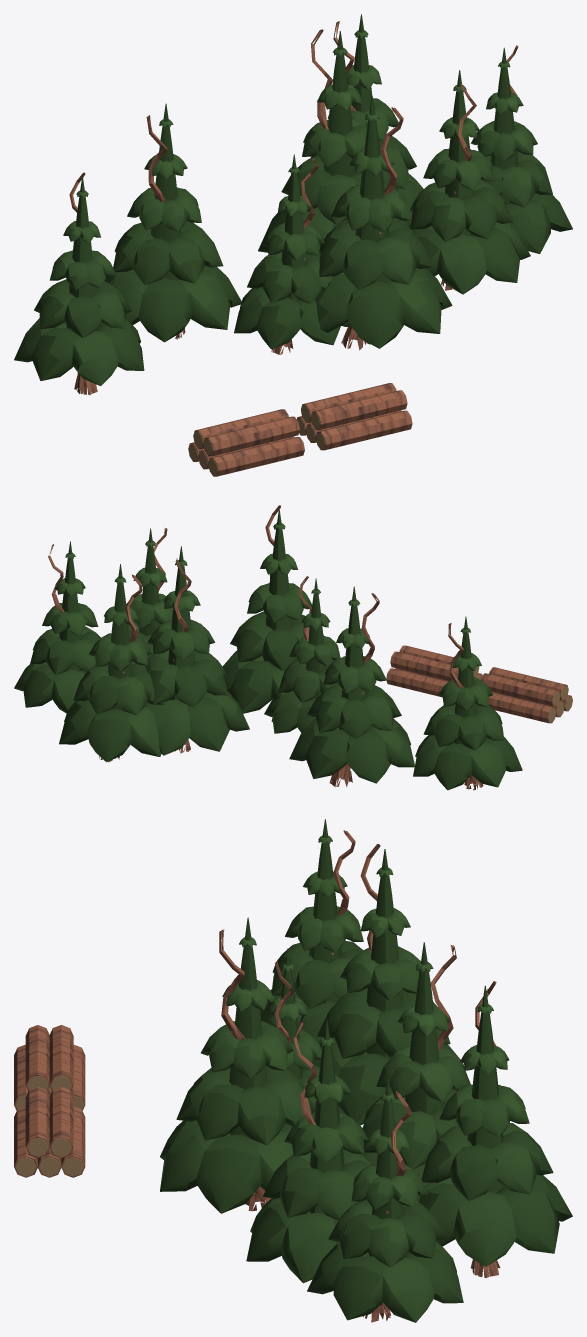
Rendered from EnvironmentForest.glb.
The picture shows the model from 3 angles, top to bottom: view 1: azimuth 30°, elevation 25°; view 2: azimuth 150°, elevation 25°; view 3: azimuth 270°, elevation 25°; orthographic projection. The views are drawn at different scales.
Visible parts, largest first — view 1: Forest retained Valoria pine 07, Forest retained Valoria pine 01, Forest retained Valoria pine 04, Forest retained Valoria pine 00, Forest cut timber and sawbuck, Forest retained Valoria pine 02, Forest retained Valoria pine 03, Forest retained Valoria pine 05, Forest retained Valoria pine 06; view 2: Forest retained Valoria pine 01, Forest retained Valoria pine 03, Forest retained Valoria pine 06, Forest retained Valoria pine 00, Forest retained Valoria pine 07, Forest retained Valoria pine 05, Forest cut timber and sawbuck, Forest retained Valoria pine 02, Forest retained Valoria pine 04; view 3: Forest retained Valoria pine 07, Forest retained Valoria pine 06, Forest retained Valoria pine 05, Forest retained Valoria pine 04, Forest retained Valoria pine 01, Forest retained Valoria pine 03, Forest cut timber and sawbuck, Forest retained Valoria pine 00, Forest retained Valoria pine 02.
Part boxes in pixels (x1=…): Forest retained Valoria pine 07: x1=315, y1=96, x2=452, y2=350; Forest retained Valoria pine 01: x1=104, y1=103, x2=241, y2=342; Forest retained Valoria pine 04: x1=408, y1=70, x2=530, y2=294; Forest retained Valoria pine 00: x1=14, y1=172, x2=144, y2=395; Forest cut timber and sawbuck: x1=188, y1=383, x2=412, y2=476; Forest retained Valoria pine 02: x1=234, y1=154, x2=351, y2=354; Forest retained Valoria pine 03: x1=258, y1=29, x2=410, y2=252; Forest retained Valoria pine 05: x1=471, y1=45, x2=572, y2=253; Forest retained Valoria pine 06: x1=311, y1=14, x2=423, y2=223; Forest retained Valoria pine 01: x1=289, y1=586, x2=414, y2=786; Forest retained Valoria pine 03: x1=144, y1=546, x2=249, y2=755; Forest retained Valoria pine 06: x1=59, y1=564, x2=164, y2=762; Forest retained Valoria pine 00: x1=413, y1=616, x2=522, y2=790; Forest retained Valoria pine 07: x1=222, y1=505, x2=323, y2=722; Forest retained Valoria pine 05: x1=14, y1=541, x2=100, y2=713; Forest cut timber and sawbuck: x1=386, y1=645, x2=572, y2=723; Forest retained Valoria pine 02: x1=264, y1=576, x2=340, y2=733; Forest retained Valoria pine 04: x1=126, y1=528, x2=173, y2=657; Forest retained Valoria pine 07: x1=160, y1=917, x2=311, y2=1213; Forest retained Valoria pine 06: x1=418, y1=981, x2=572, y2=1278; Forest retained Valoria pine 05: x1=307, y1=1077, x2=463, y2=1322; Forest retained Valoria pine 04: x1=246, y1=1020, x2=372, y2=1283; Forest retained Valoria pine 01: x1=313, y1=844, x2=470, y2=1125; Forest retained Valoria pine 03: x1=361, y1=942, x2=467, y2=1202; Forest cut timber and sawbuck: x1=14, y1=1025, x2=85, y2=1177; Forest retained Valoria pine 00: x1=260, y1=819, x2=363, y2=1044; Forest retained Valoria pine 02: x1=267, y1=948, x2=345, y2=1114.
Size of the model in its own units: 18.73 by 8.01 by 13.76.
6 materials, 1 textured.
